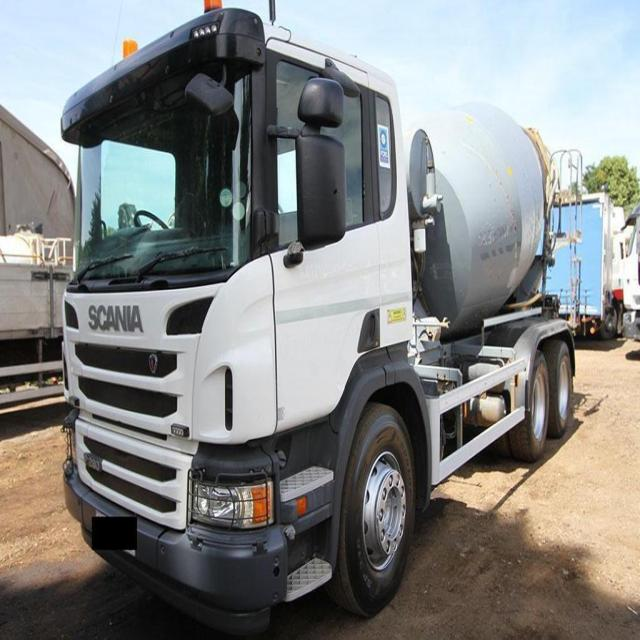Mixer Truck: (61, 8, 582, 630)
